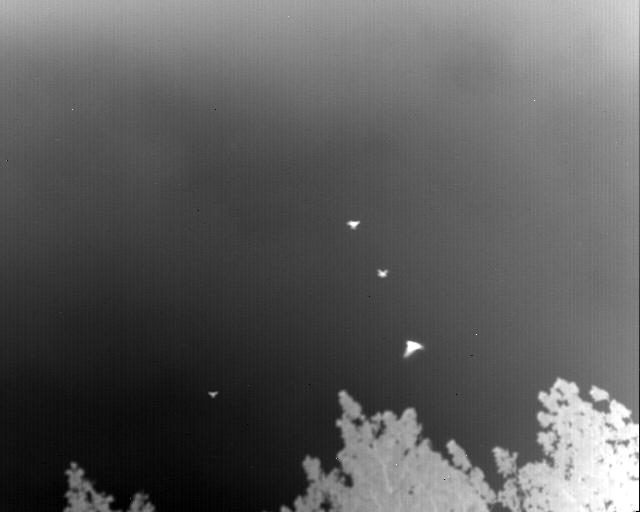plane: (347, 219, 361, 230), (376, 269, 388, 278), (207, 391, 219, 399)
